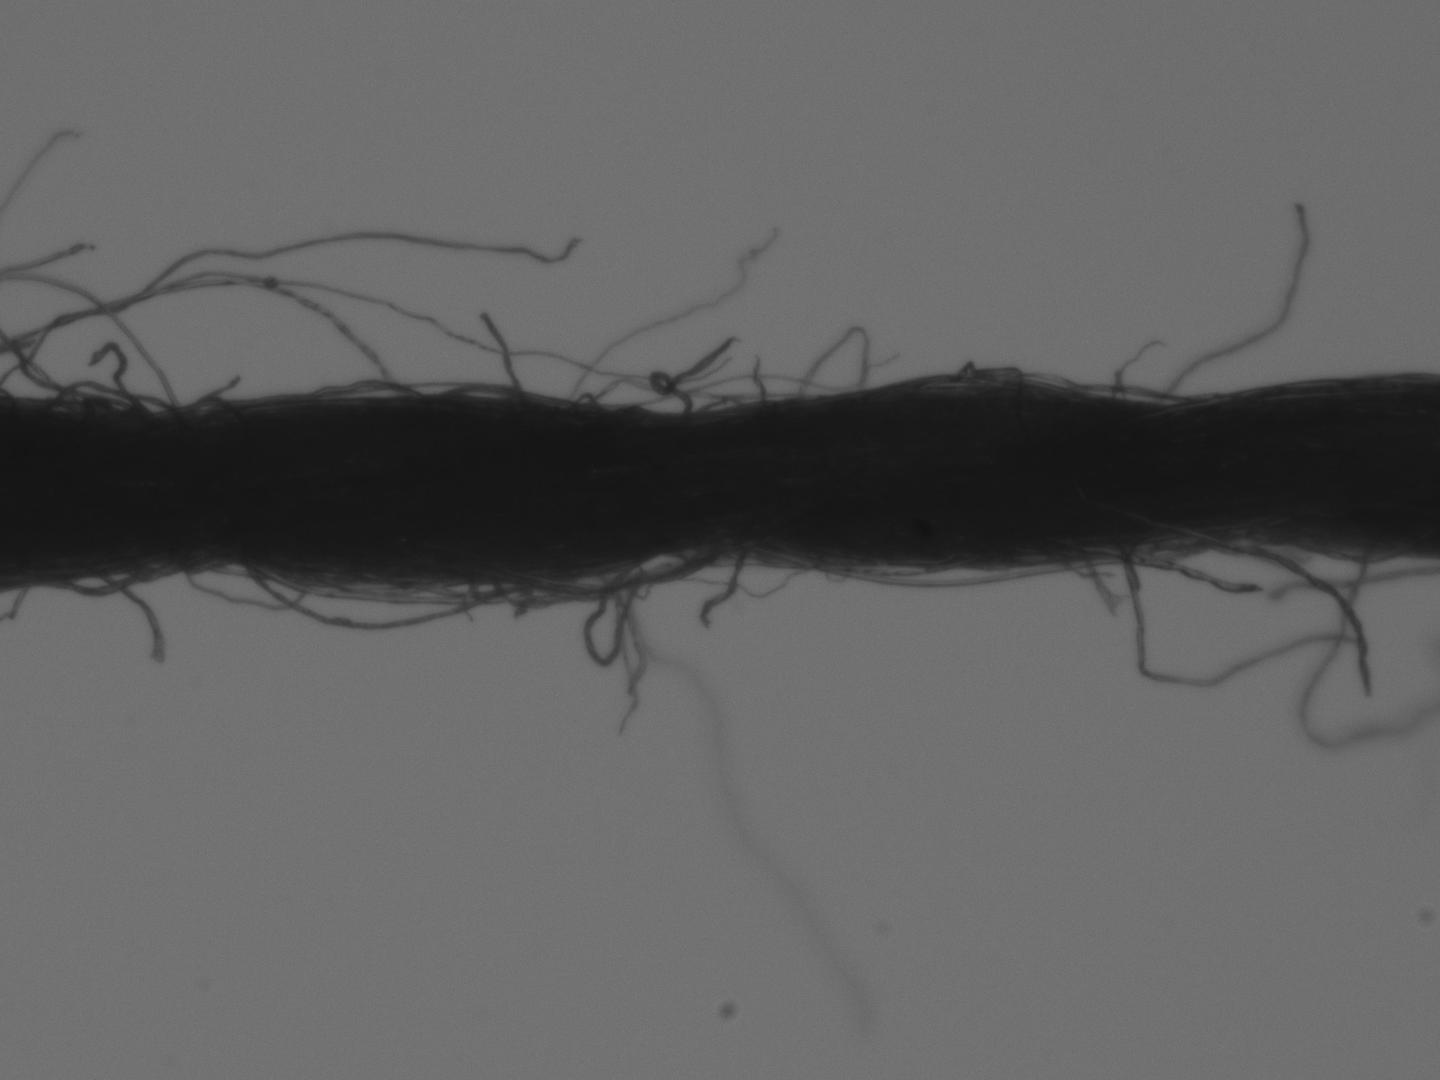loop_fiber: (239, 555, 537, 633), (897, 353, 1195, 403), (37, 549, 204, 598), (795, 321, 873, 406), (40, 373, 181, 417), (296, 376, 425, 403), (185, 391, 246, 422)
protruding_fiber: (477, 306, 523, 407)
